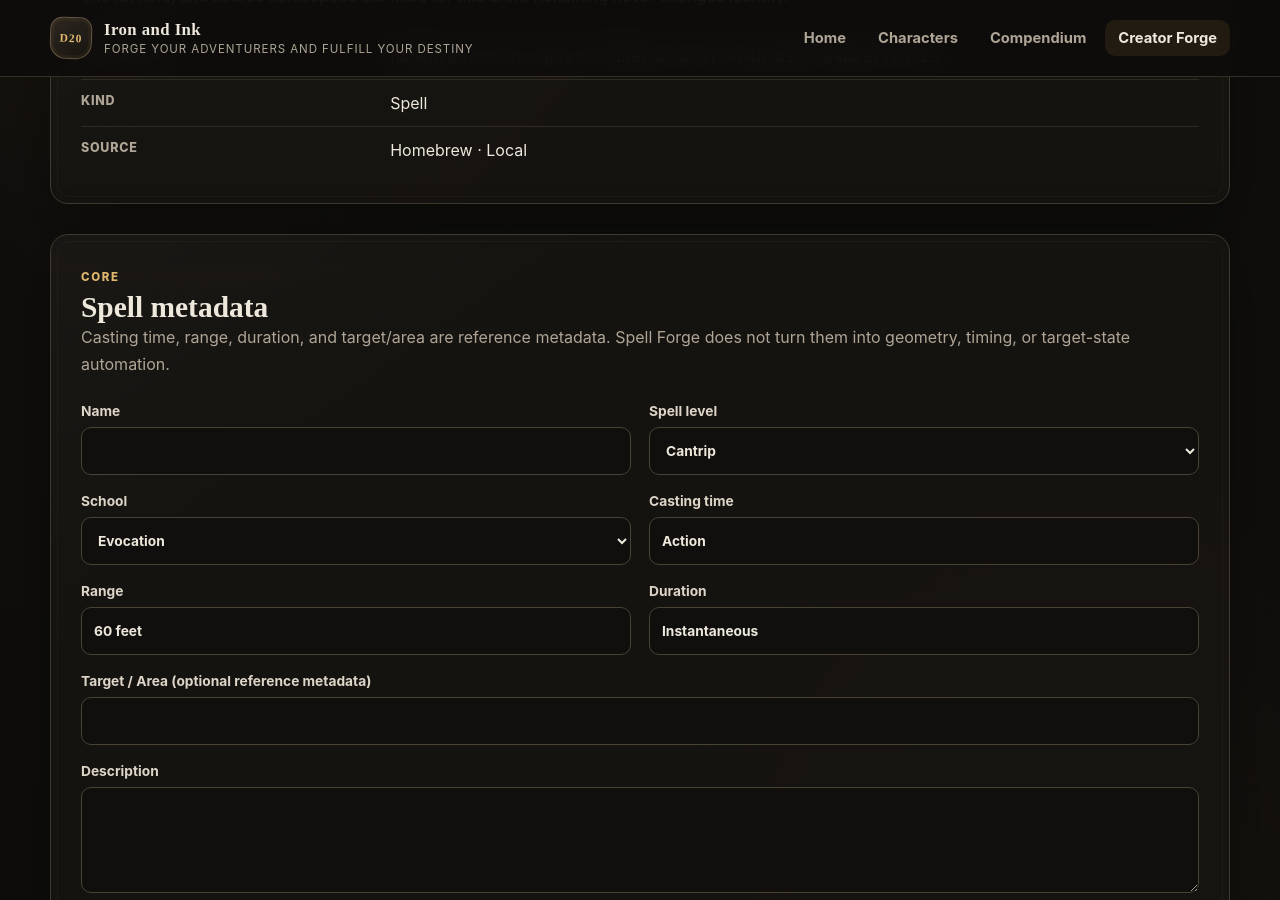
Test: M16-D Creator Forge shell and Spell Forge UI › J storage failure keeps the Review draft and does not publish or persist the candidate
(page scrolled)
In the field named "Spell name": (356, 451) [81,427,631,475], type "Quota Spell"
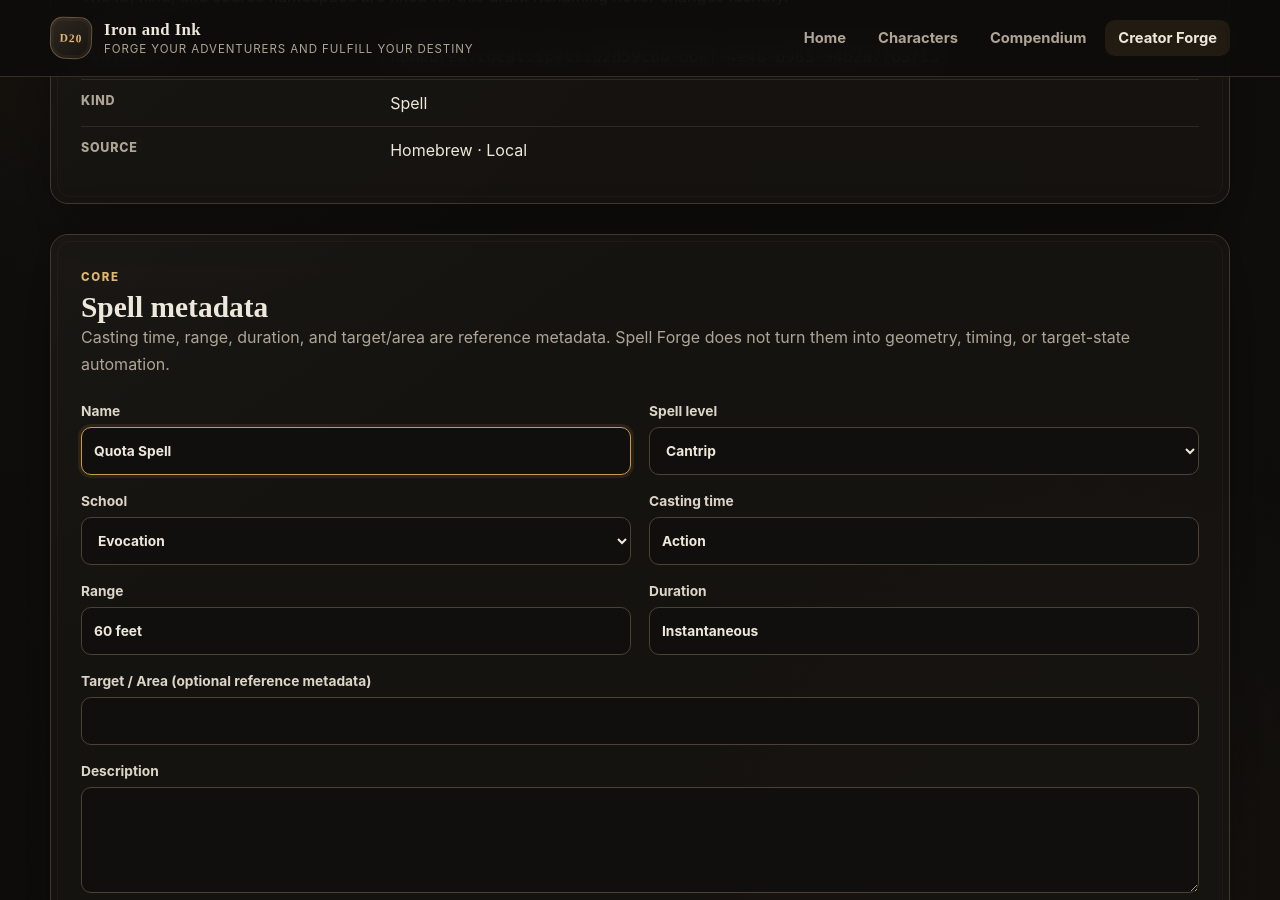
In the text box named "Spell description": (640, 840) [81,787,1199,893], type "Synthetic M16-D Spell Forge draft."
(page scrolled)
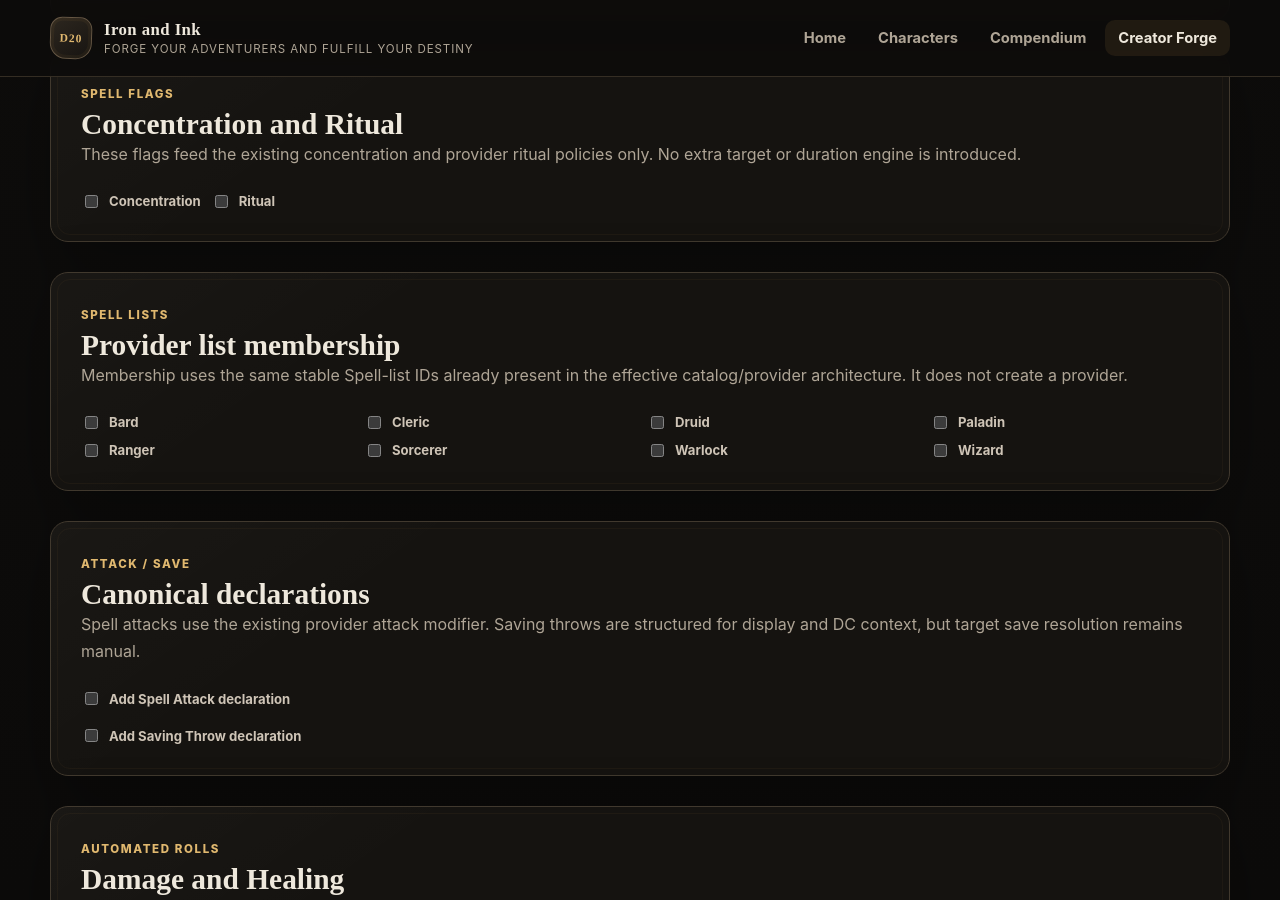
Click the checkbox named "Spell list Wizard": (940, 450) [934,444,947,457]
(page scrolled)
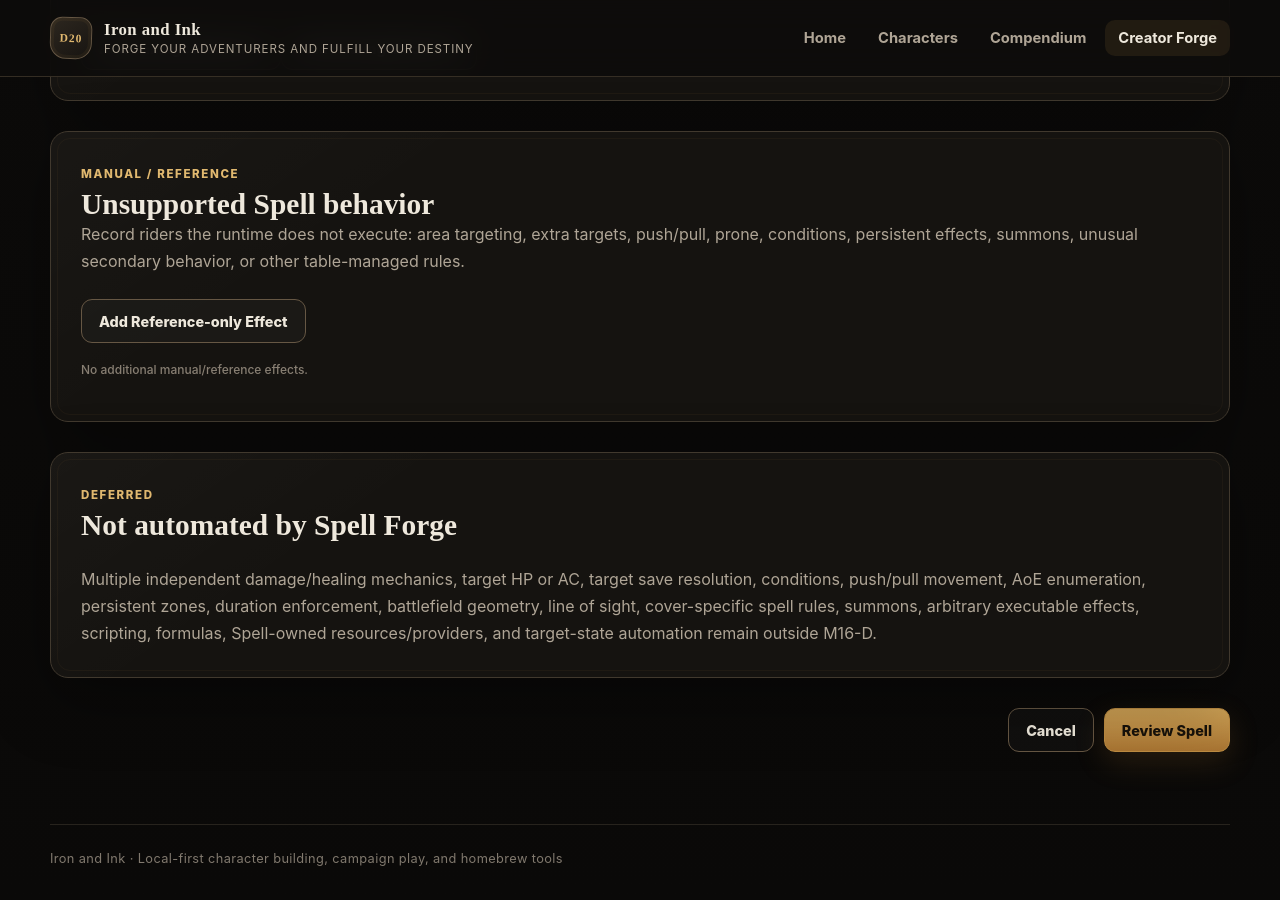
Click the button "Review Spell": (1167, 730) [1104,708,1230,752]
(page scrolled)
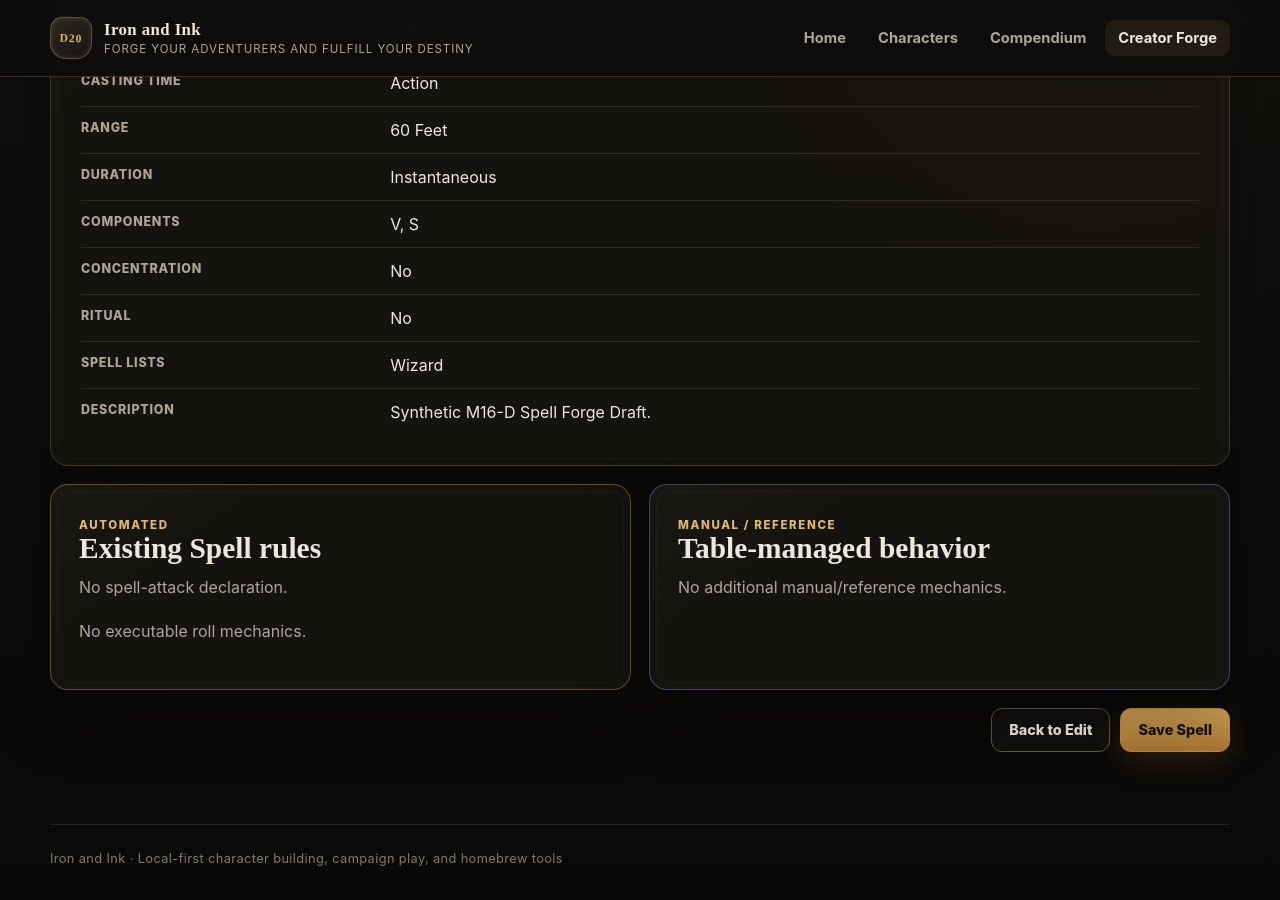
Click the button "Save Spell": (1175, 730) [1120,708,1230,752]
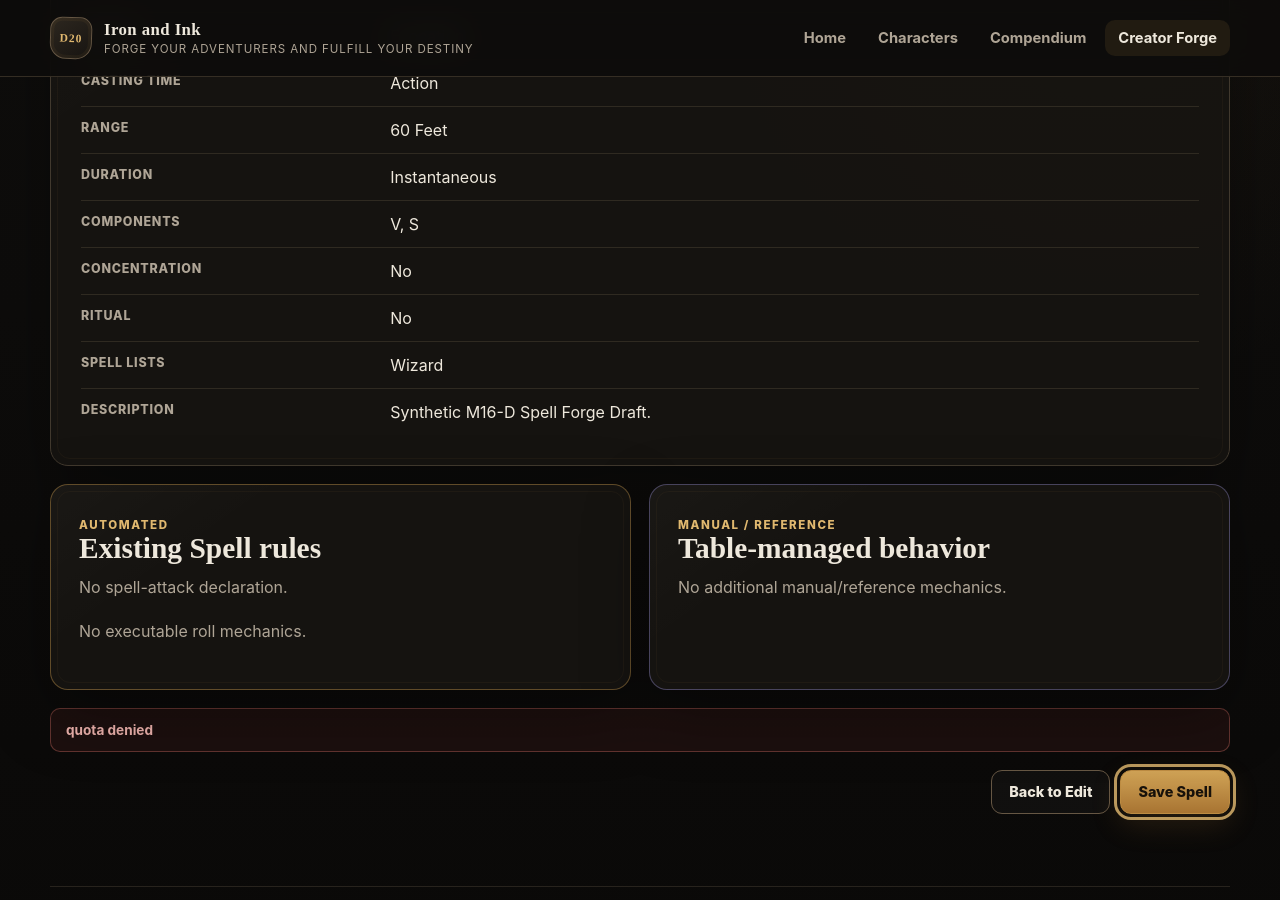
Result: the message reads "quota denied" at [66,722,153,738]
Click the button "Back to Edit": (1051, 792) [991,770,1110,814]
(page scrolled)
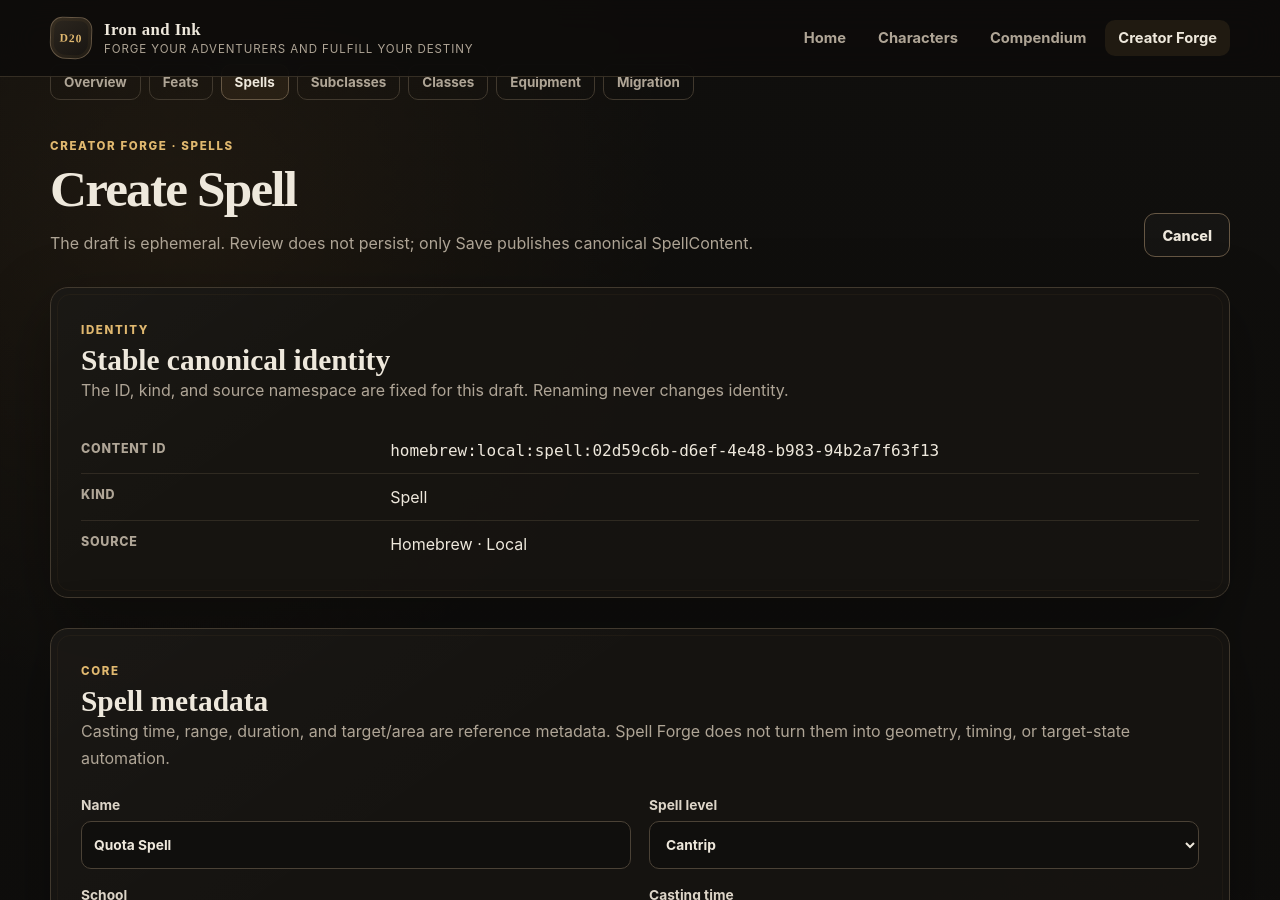
Result: the field named "Spell name" holds "Quota Spell" at [81,821,631,869]
